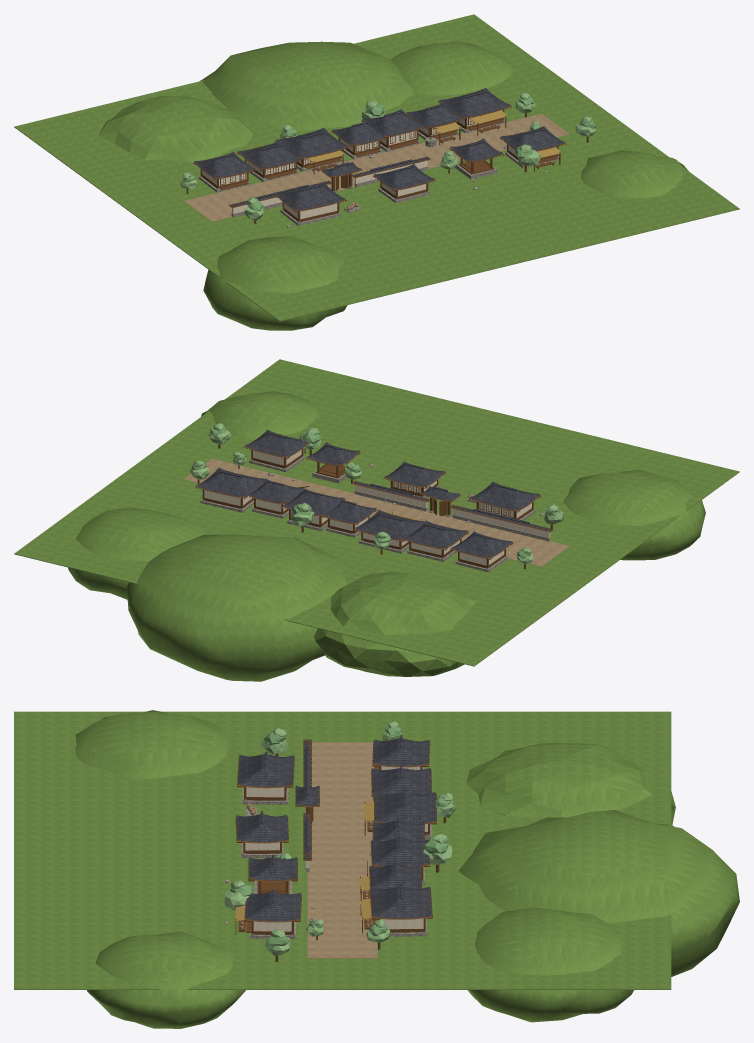
The model's file is joseon_street_v2.glb.
3 renders of one model, top to bottom at view 1: azimuth 30°, elevation 25°; view 2: azimuth 150°, elevation 25°; view 3: azimuth 270°, elevation 25°, orthographic. The views are drawn at different scales.
Visible parts, largest first — view 1: ground, hill.001, hill.003, hill, hill.002, road, hill.004, roof.002, roof.006, roof.007, roof.001, road_edge (+7 smaller); view 2: ground, hill.001, hill, hill.003, hill.002, hill.004, road, roof.006, roof.002, road_edge.001, roof.007, roof.001 (+8 smaller); view 3: ground, hill.001, hill.002, road, hill, hill.004, hill.003, roof.006, roof.002, roof.007, roof.009, roof.001 (+7 smaller).
Boxes of the visible parts, left/top/right/bottom form: ground: left=14, top=14, right=739, bottom=321; hill.001: left=200, top=41, right=413, bottom=131; hill.003: left=203, top=236, right=347, bottom=330; hill: left=98, top=95, right=253, bottom=162; hill.002: left=391, top=41, right=512, bottom=95; road: left=187, top=115, right=566, bottom=219; hill.004: left=581, top=150, right=688, bottom=198; roof.002: left=276, top=127, right=348, bottom=157; roof.006: left=439, top=87, right=510, bottom=117; roof.007: left=276, top=182, right=345, bottom=209; roof.001: left=238, top=140, right=303, bottom=168; road_edge: left=184, top=113, right=544, bottom=202; ground: left=14, top=359, right=739, bottom=666; hill.001: left=126, top=534, right=347, bottom=681; hill: left=313, top=571, right=476, bottom=676; hill.003: left=563, top=469, right=705, bottom=560; hill.002: left=68, top=507, right=204, bottom=599; hill.004: left=201, top=391, right=319, bottom=439; road: left=187, top=460, right=566, bottom=564; roof.006: left=196, top=467, right=266, bottom=496; roof.002: left=354, top=509, right=426, bottom=539; road_edge.001: left=209, top=458, right=569, bottom=547; roof.007: left=470, top=482, right=540, bottom=509; roof.001: left=403, top=520, right=468, bottom=547; ground: left=14, top=711, right=671, bottom=989; hill.001: left=459, top=810, right=739, bottom=976; hill.002: left=467, top=907, right=633, bottom=1022; road: left=315, top=742, right=370, bottom=958; hill: left=467, top=743, right=675, bottom=824; hill.004: left=87, top=931, right=245, bottom=1028; hill.003: left=75, top=710, right=228, bottom=779; roof.006: left=370, top=886, right=432, bottom=918; roof.002: left=374, top=792, right=436, bottom=823; roof.007: left=237, top=754, right=294, bottom=786; roof.009: left=245, top=892, right=301, bottom=921; roof.001: left=371, top=768, right=431, bottom=794.
Bounding box in the file's own units: 94.11 × 20.36 × 99.4.
12 materials, 8 textured.
